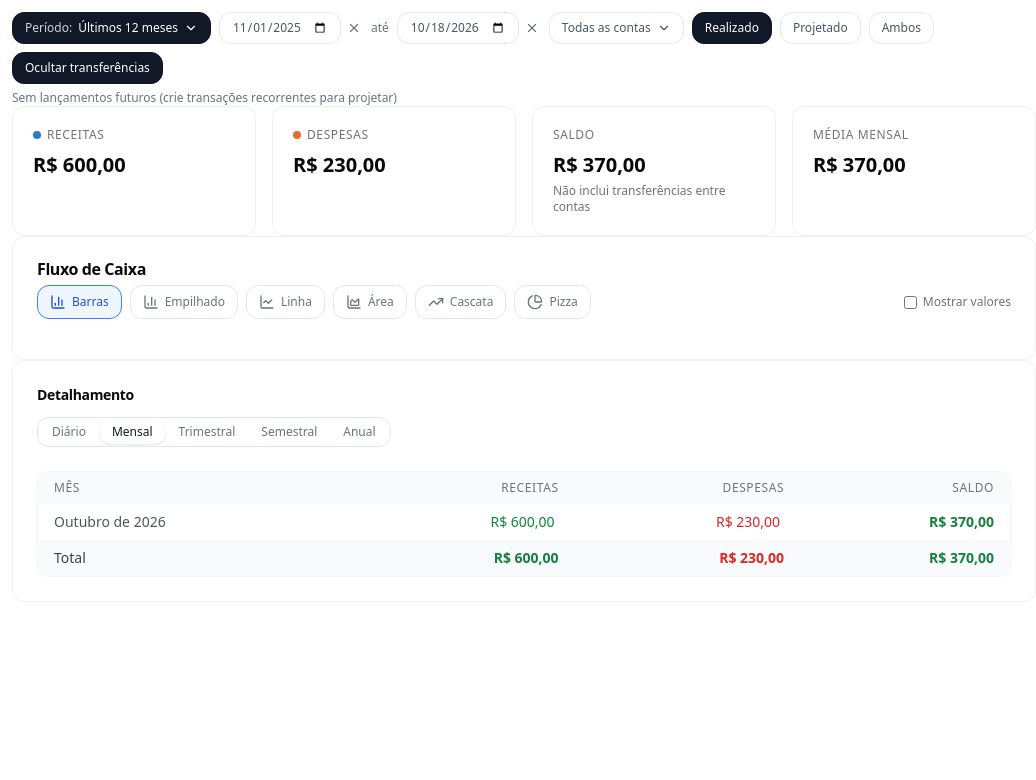
it: cards × total do detalhamento › "Ocultar transferências" desligado conta a entrada como receita e a saída como despesa
Click the button "Ocultar transferências": (87, 68) [12,52,163,84]
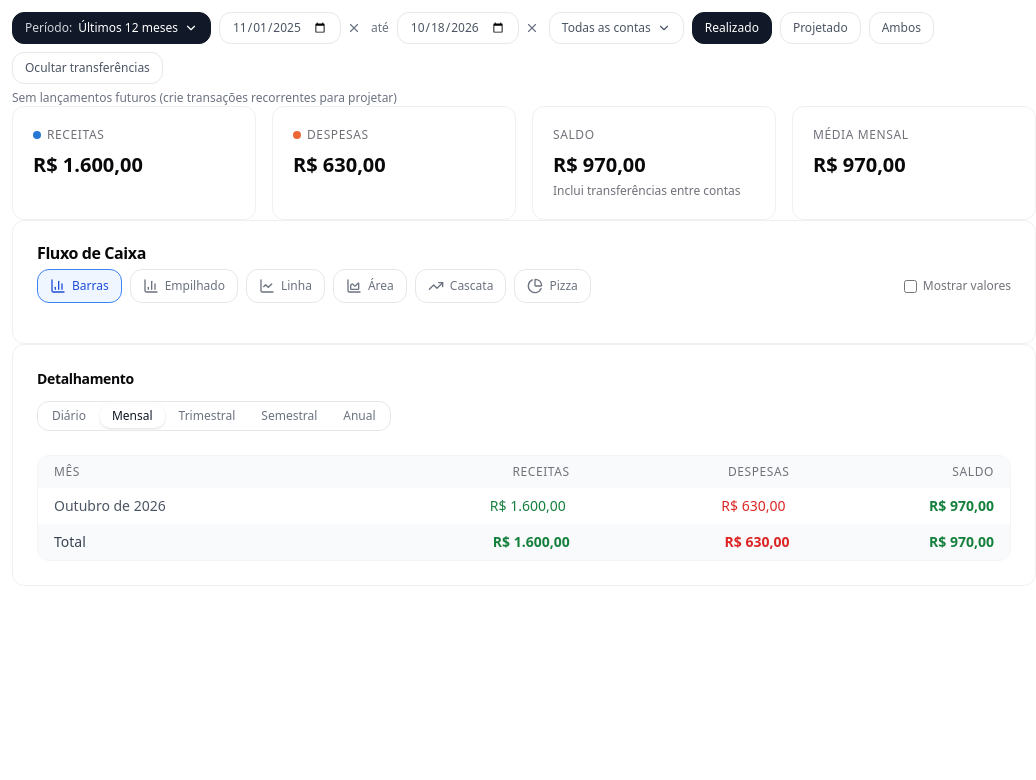
Expected: the text "R$ 1.600,00" is shown, [33,151,143,178]
Expected: the text "R$ 630,00" is shown, [293,151,386,178]
